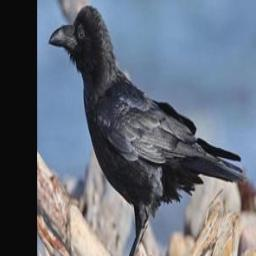Crow: (48, 4, 246, 256)
